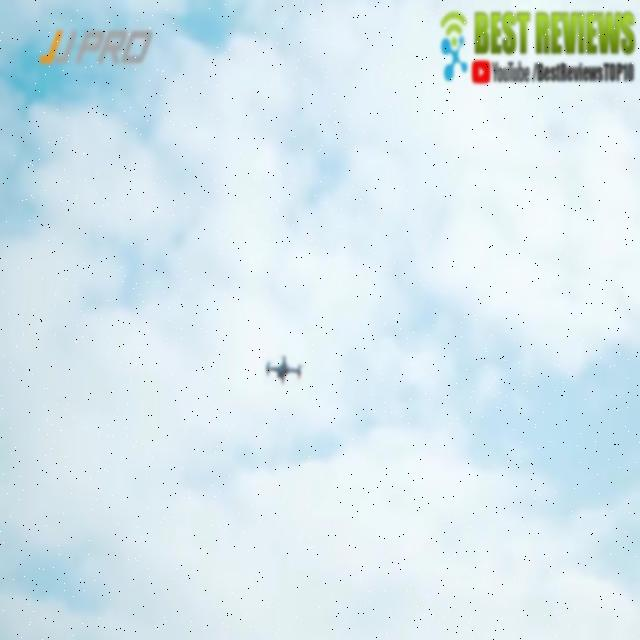UAV: (266, 355, 304, 385)
